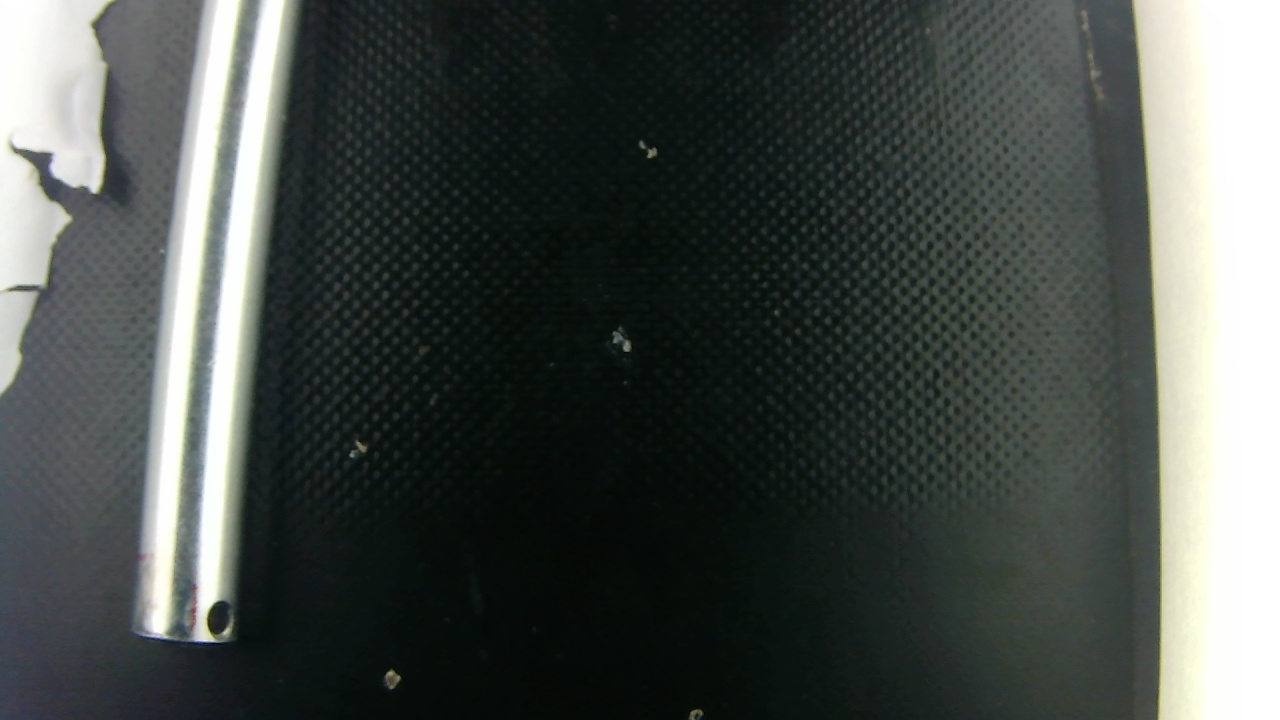black patch_pin: (137, 566, 200, 635)
